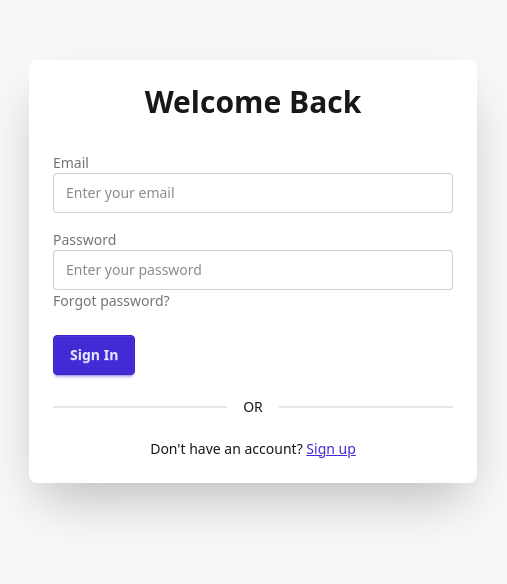
Scenario: App Component › decrements counter when decrement button is clicked
The width and height of the screenshot is (507, 584).
Note: Login first
Type "test@example.com" into the field with placeholder "Enter your email" at (253, 192), box top-left (53, 172), bottom-right (453, 212)
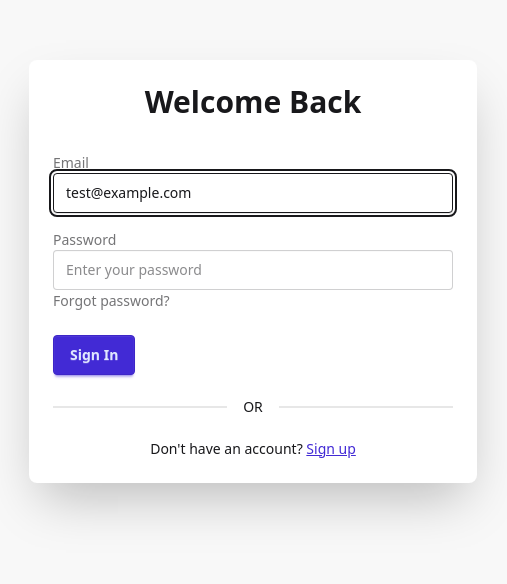
Type "password123" into the password field with placeholder "Enter your password" at (253, 270), box top-left (53, 250), bottom-right (453, 290)
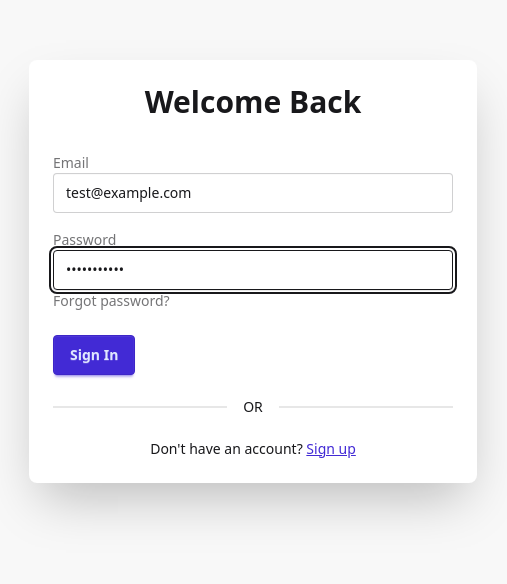
Click the button "Sign In" at (94, 354), box top-left (53, 334), bottom-right (135, 374)
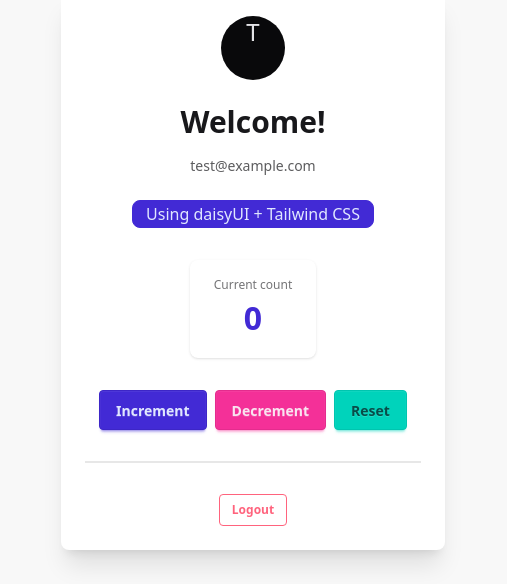
Expected: the heading "Welcome!" is shown, top-left (180, 104), bottom-right (326, 140)
Click the button "Increment" at (153, 410), box top-left (99, 390), bottom-right (207, 430)
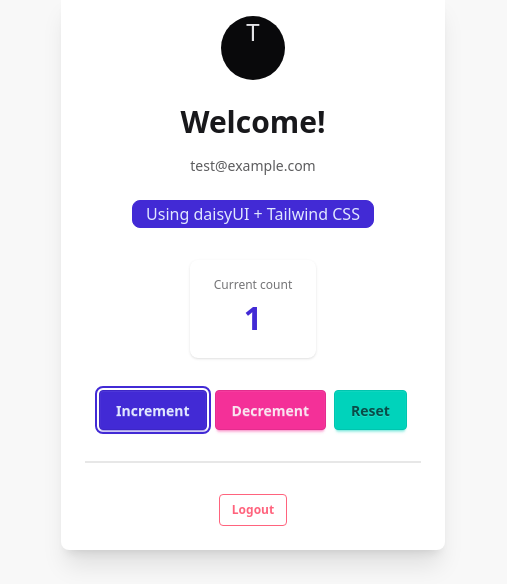
Click the button "Increment" at (153, 410), box top-left (99, 390), bottom-right (207, 430)
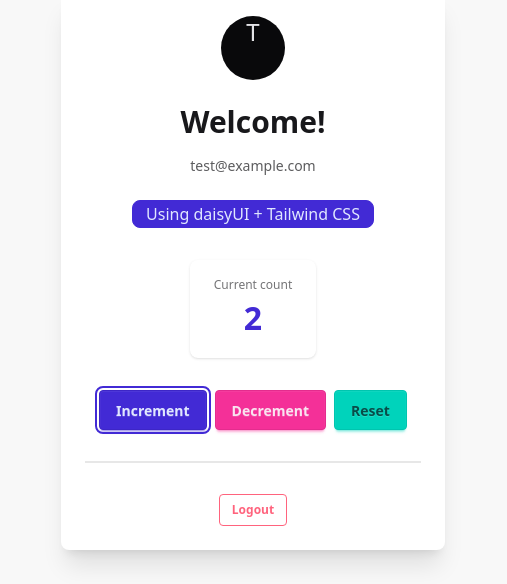
Click the button "Decrement" at (270, 410), box top-left (215, 390), bottom-right (326, 430)
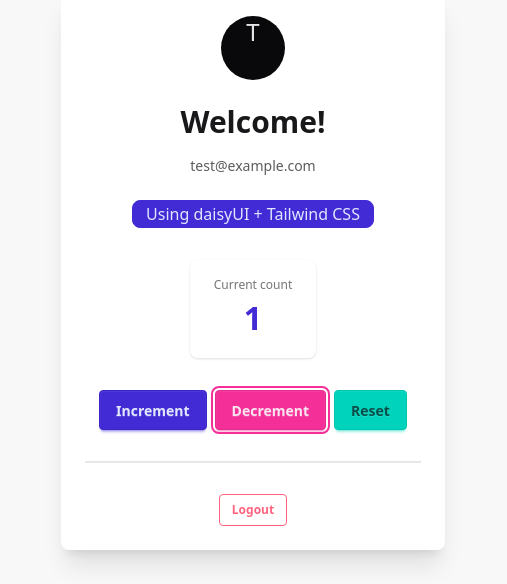
Expected: the text "1" is shown, top-left (244, 296), bottom-right (262, 339)
